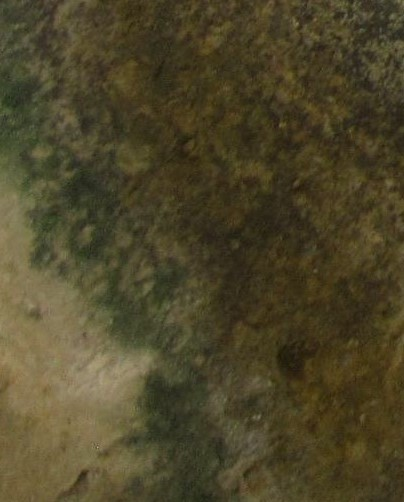Corrosion: (1, 1, 404, 502)
